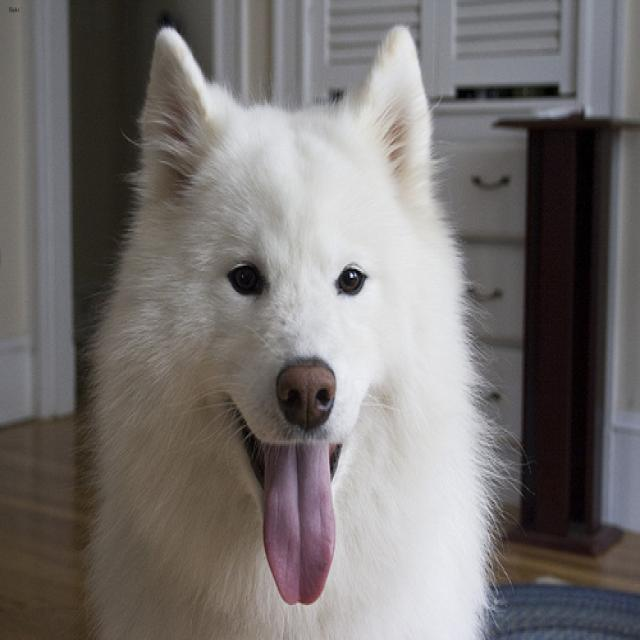dog-samoyed: (82, 19, 500, 637)
